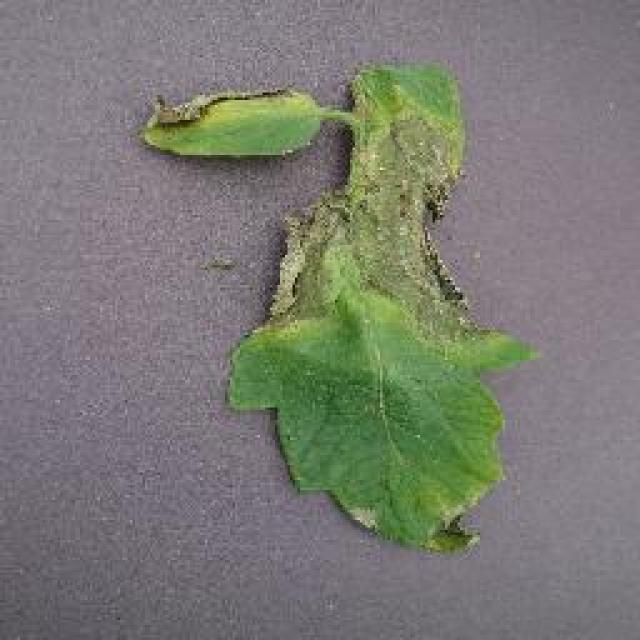Tomato Late Blight: (265, 48, 513, 420)
